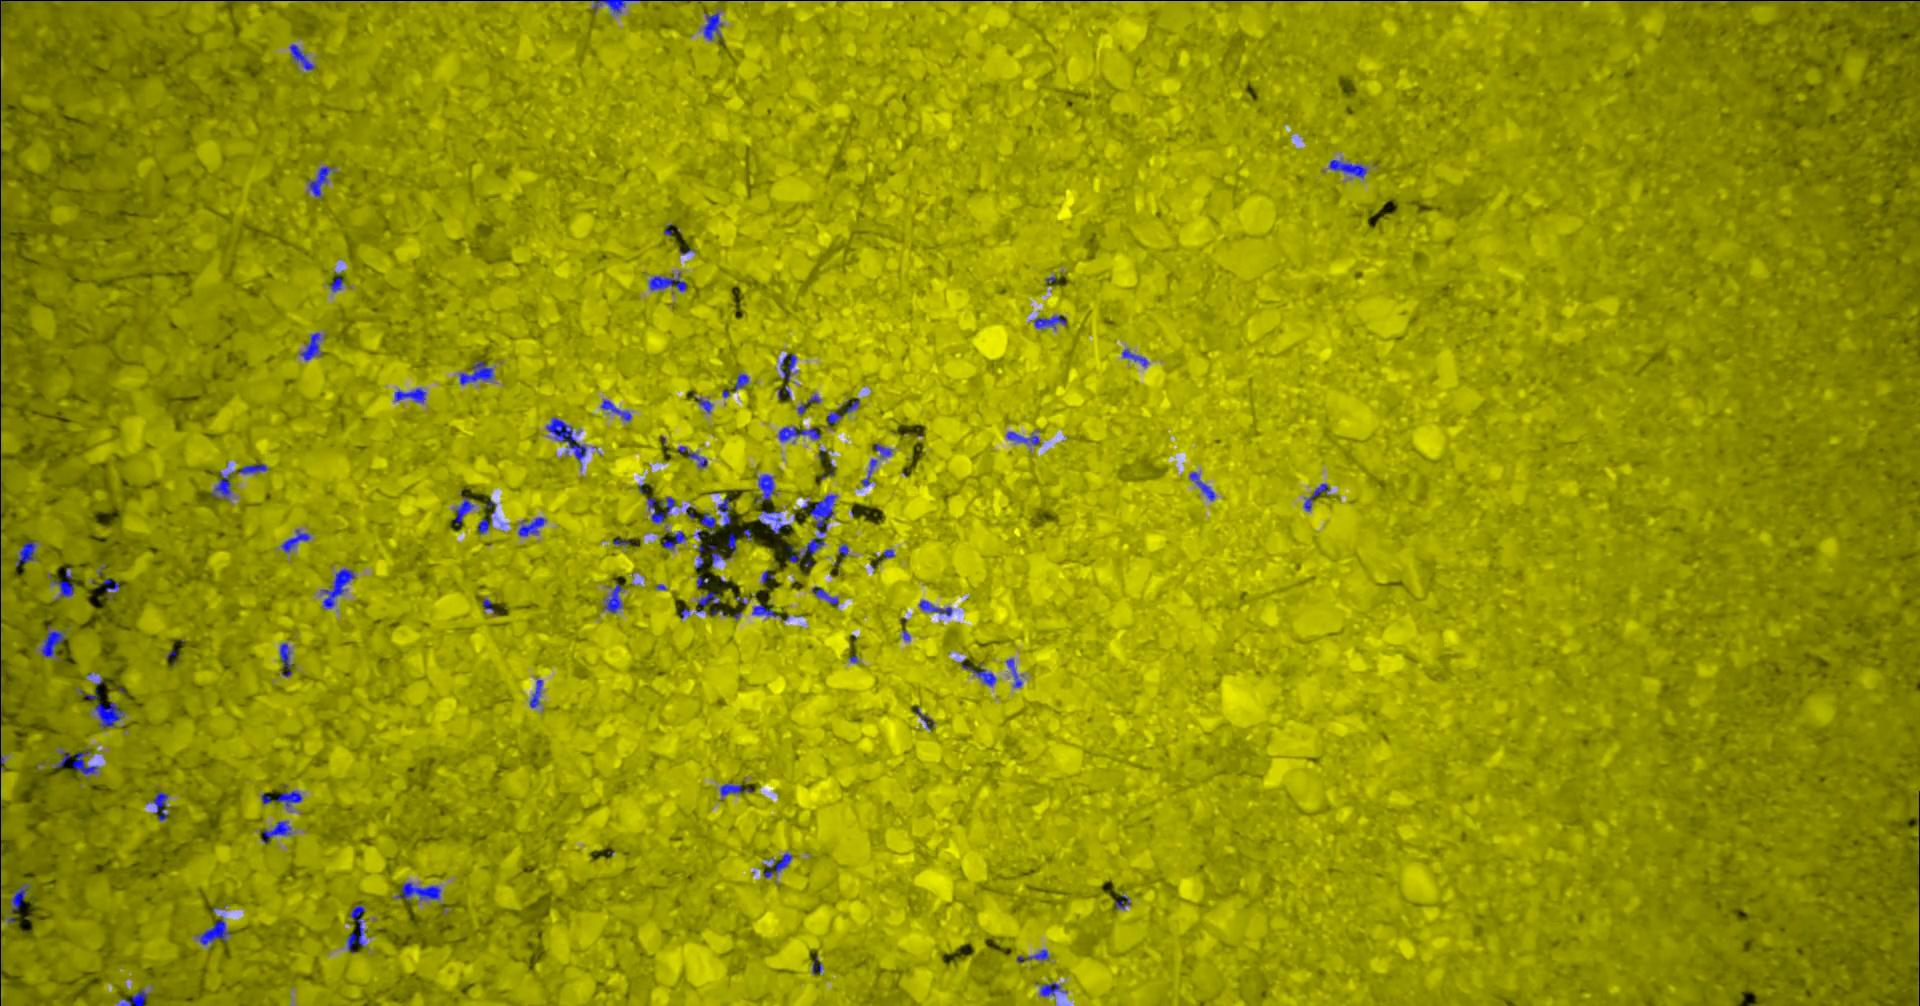ant: (786, 494, 836, 561), (545, 417, 585, 464), (321, 568, 354, 608), (960, 658, 996, 685), (8, 883, 30, 922), (345, 904, 364, 951), (695, 544, 731, 568), (458, 359, 493, 384), (94, 701, 124, 728), (41, 624, 65, 657), (395, 882, 439, 899), (646, 495, 676, 522), (1303, 483, 1330, 511), (1189, 471, 1214, 500), (279, 528, 310, 553), (198, 920, 229, 944), (648, 272, 686, 291), (260, 790, 302, 807), (599, 399, 631, 420), (1328, 159, 1366, 177), (476, 498, 495, 533), (298, 332, 323, 359), (761, 509, 789, 533), (309, 166, 331, 196), (260, 821, 290, 843), (71, 748, 97, 774), (778, 426, 820, 441), (763, 854, 791, 876), (590, 0, 639, 13), (290, 44, 314, 70), (603, 582, 622, 612), (211, 471, 231, 499), (455, 495, 472, 526), (517, 517, 545, 536), (53, 569, 72, 597), (918, 600, 952, 615), (695, 591, 720, 611), (754, 474, 773, 500), (811, 586, 838, 605), (703, 11, 721, 39), (17, 541, 36, 567), (1006, 658, 1022, 687), (1032, 314, 1065, 328), (780, 353, 796, 381), (1006, 431, 1039, 445), (719, 782, 752, 796), (662, 530, 686, 549), (152, 791, 168, 821), (394, 387, 425, 401), (797, 394, 819, 414), (1123, 348, 1147, 366), (119, 989, 147, 1005), (916, 708, 935, 729), (717, 497, 731, 526), (861, 459, 876, 485), (1016, 949, 1048, 962), (279, 641, 291, 676), (1039, 982, 1065, 996), (750, 603, 780, 616), (698, 512, 715, 533), (530, 680, 542, 708), (687, 452, 707, 467), (237, 462, 267, 473), (55, 749, 70, 767), (99, 578, 119, 591), (733, 373, 748, 390), (825, 412, 842, 427), (874, 443, 891, 457), (696, 398, 712, 412), (329, 276, 343, 291), (726, 532, 737, 553), (844, 399, 858, 413), (1115, 895, 1129, 909), (811, 956, 822, 974), (1848, 0, 1906, 1)
